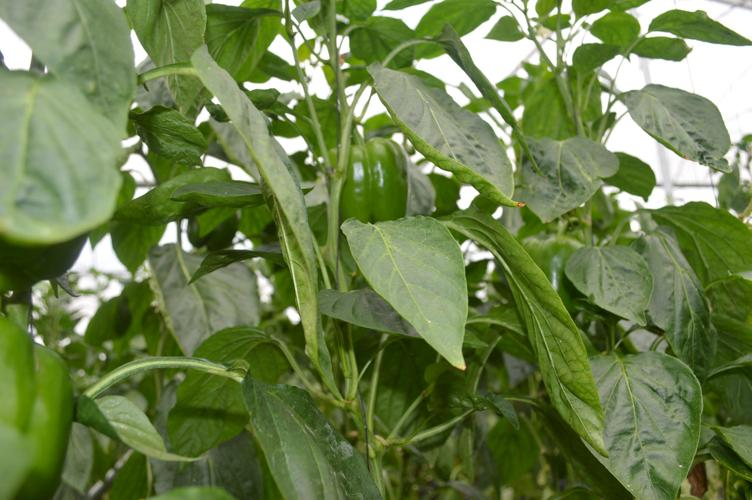BellPepper: (3, 324, 70, 490), (323, 138, 407, 227)
